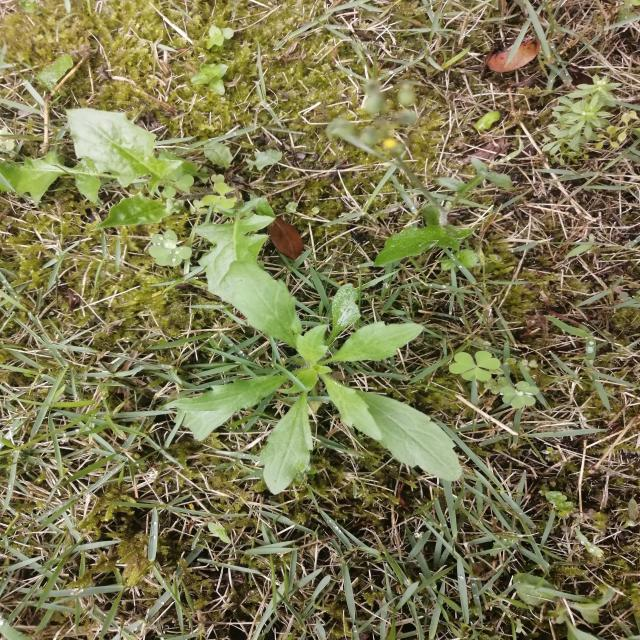horseweed: (171, 258, 467, 496)
